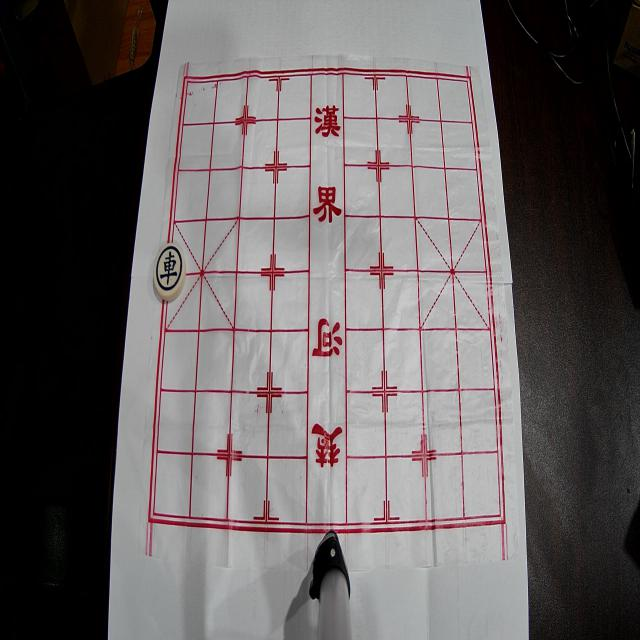black-chariot: (154, 243, 186, 301)
